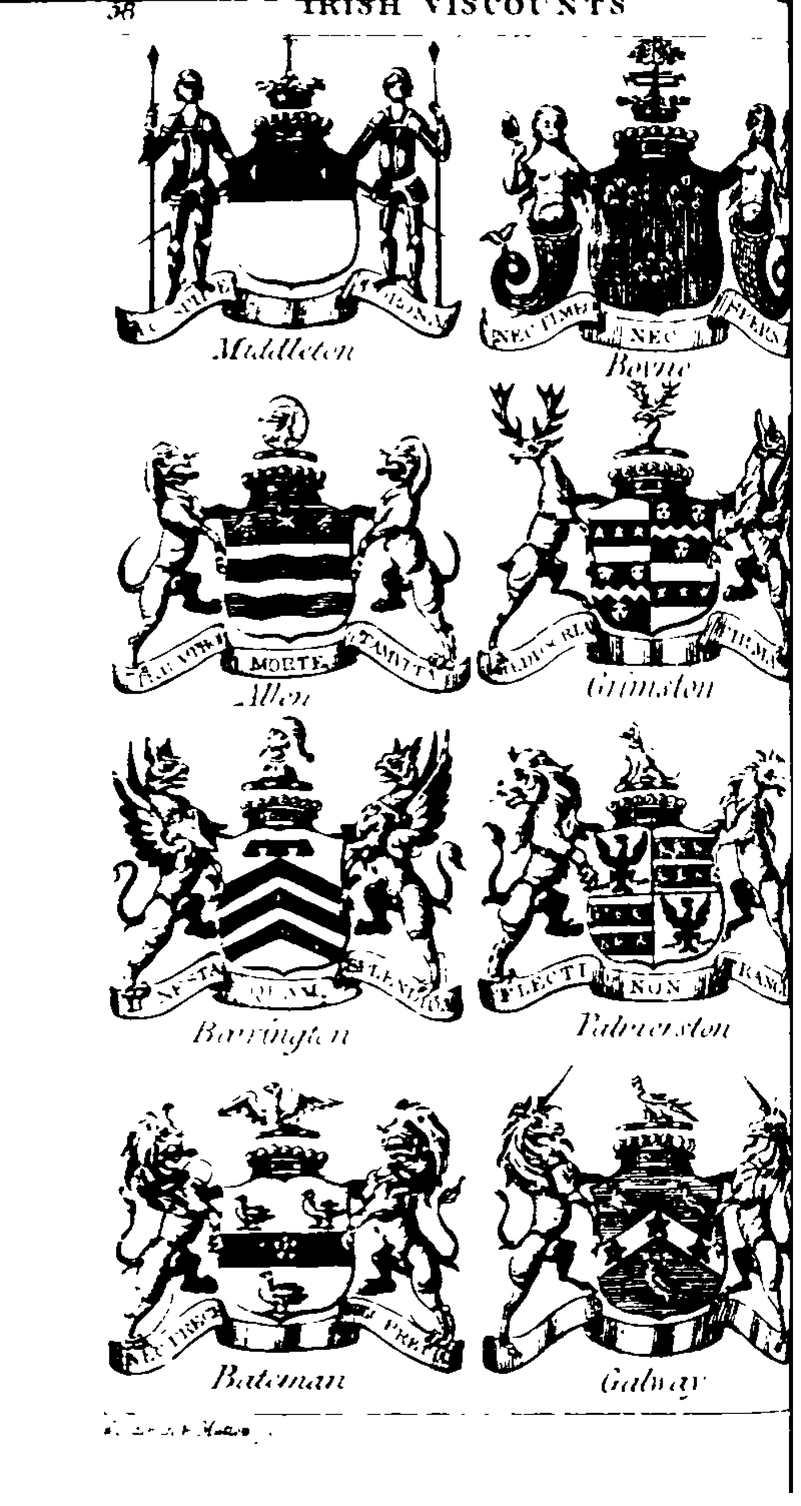coat_of_arms: (114, 33, 467, 388), (113, 715, 478, 1057), (112, 384, 475, 724), (117, 1062, 468, 1408), (468, 35, 801, 388), (473, 716, 800, 1047), (486, 1060, 801, 1403), (474, 376, 801, 706)
